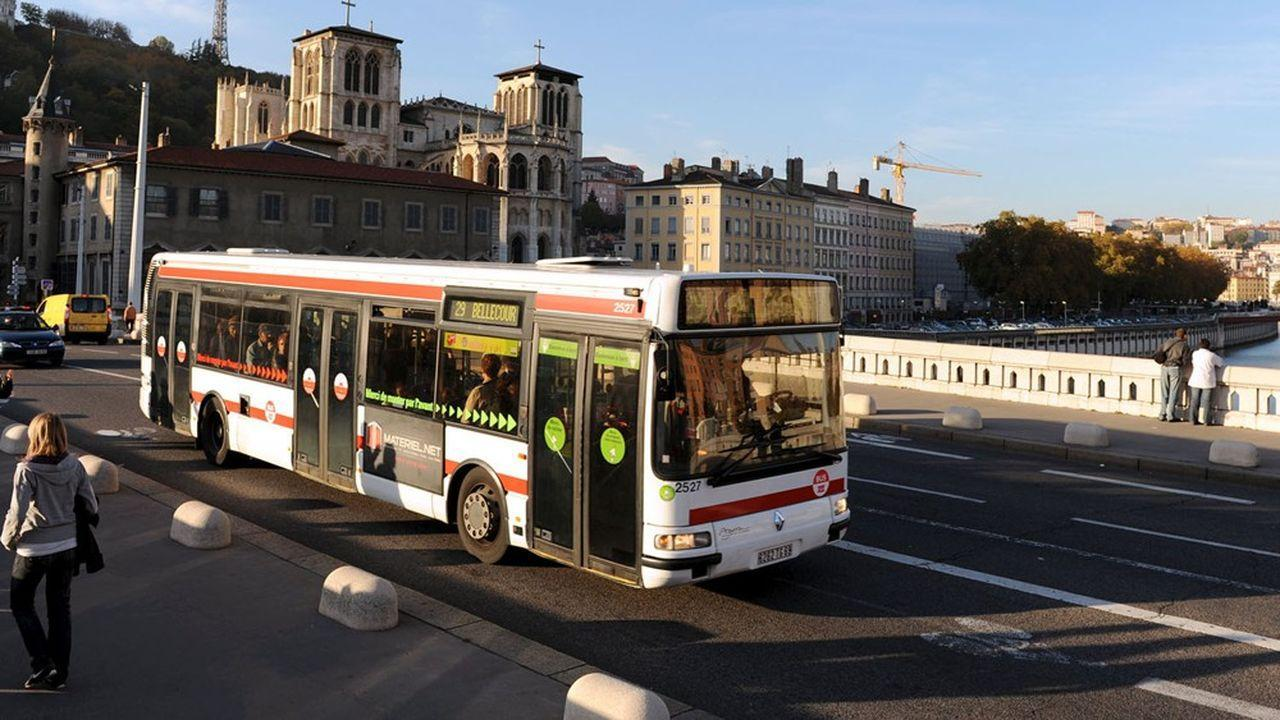Bus: (136, 253, 858, 591)
